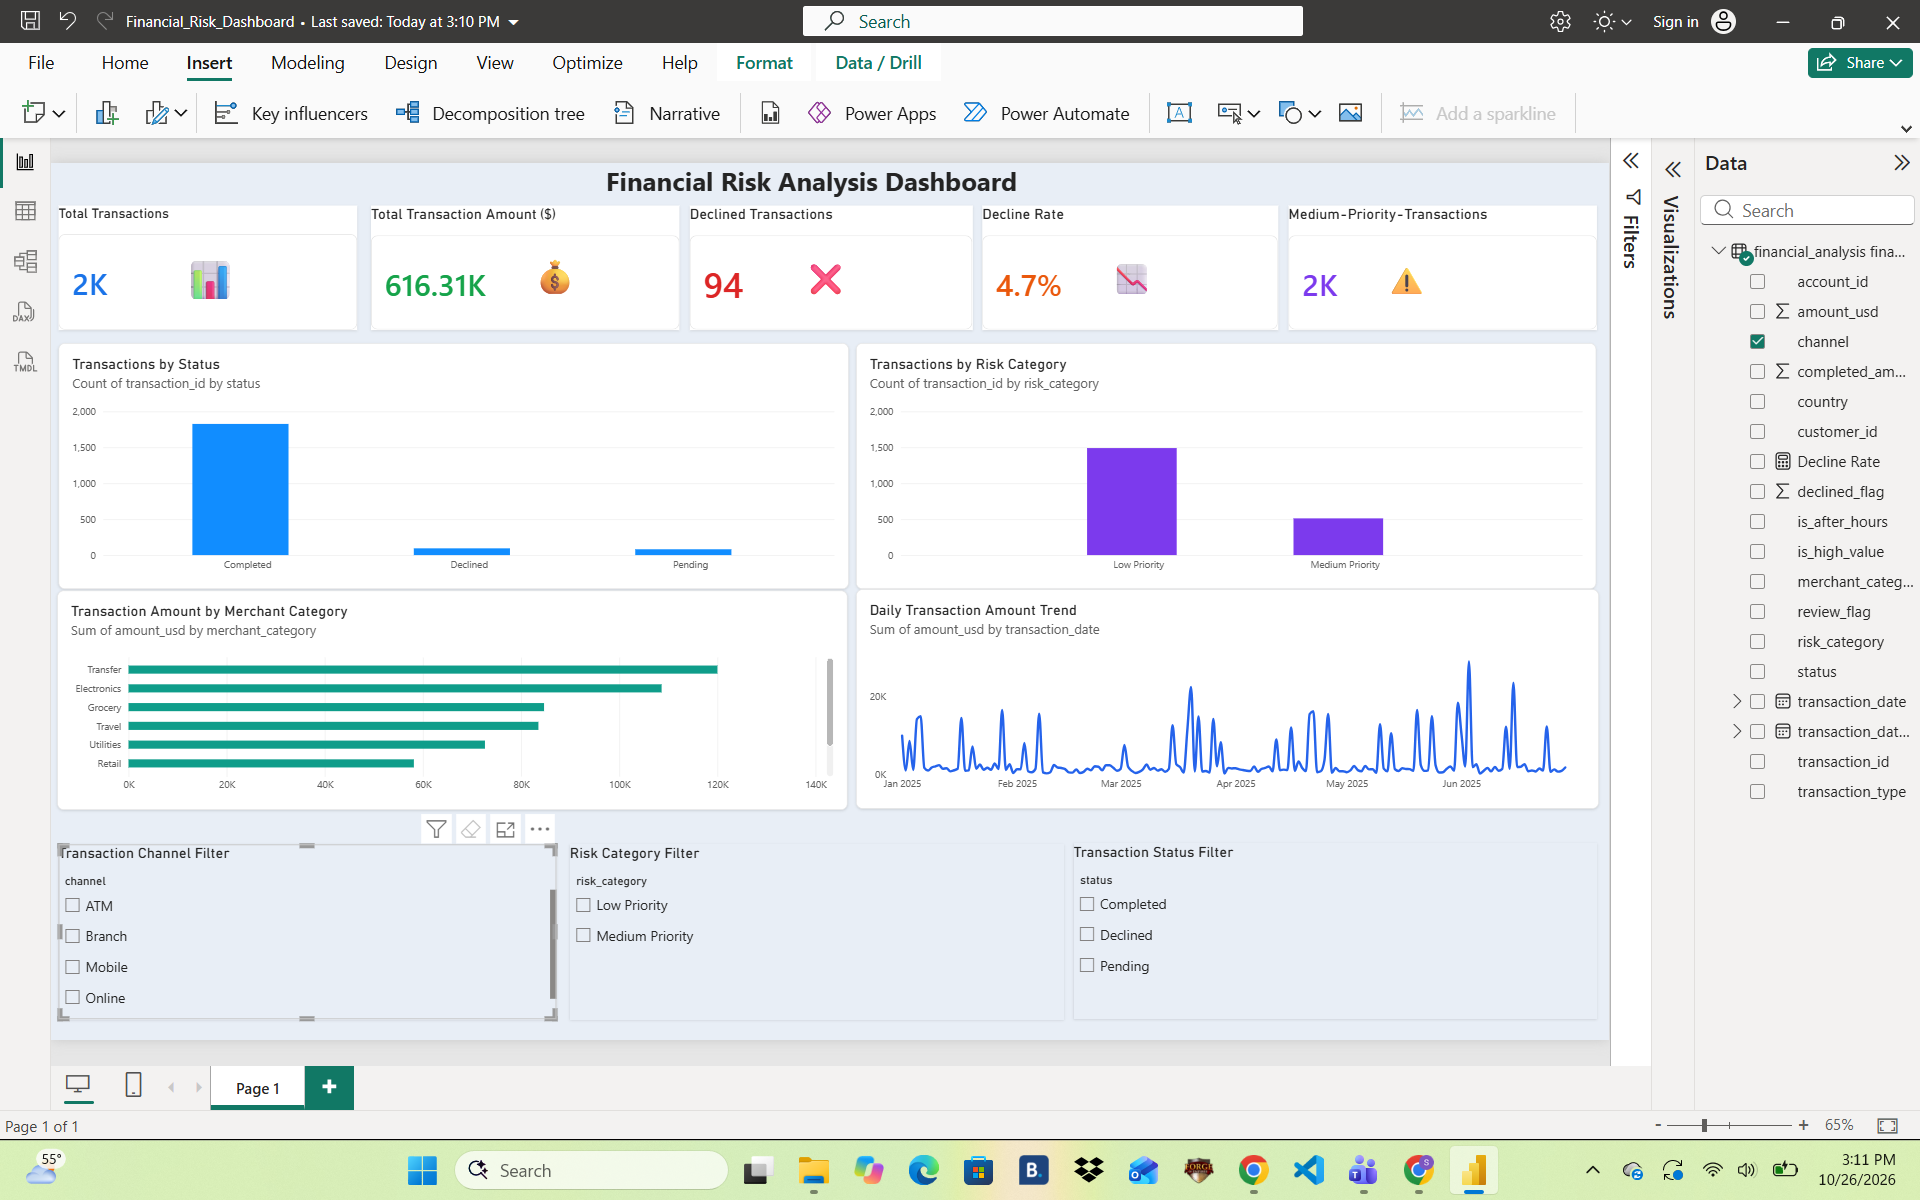

The dashboard page shown, as its layout file describes it:
{"tool":"powerbi","page":{"name":"Page 1","canvas":[1920,1080],"ordinal":0},"visuals":[{"type":"cardVisual","title":"Total Transactions","fields":{"Data":["CountNonNull(financial_analysis financial_risk_dashboard.transaction_id)"]},"box":[8.7,52.3,368,153.5],"z":0},{"type":"cardVisual","title":"Total Transaction Amount ($)","fields":{"Data":["Sum(financial_analysis financial_risk_dashboard.amount_usd)"]},"box":[394.2,52.3,380.2,153.5],"z":1000},{"type":"cardVisual","title":"Declined Transactions","fields":{"Data":["Sum(financial_analysis financial_risk_dashboard.declined_flag)"]},"box":[786.6,52.3,348.8,153.5],"z":2000},{"type":"cardVisual","title":"Decline Rate","fields":{"Data":["financial_analysis financial_risk_dashboard.Decline Rate"]},"box":[1147.7,52.3,364.5,153.5],"z":3000},{"type":"cardVisual","title":"Medium-Priority-Transactions","fields":{"Data":["CountNonNull(financial_analysis financial_risk_dashboard.transaction_id)"]},"box":[1524.4,52.3,380.2,153.5],"z":4000},{"type":"clusteredColumnChart","title":"Transactions by Status","fields":{"Category":["financial_analysis financial_risk_dashboard.status"],"Y":["CountNonNull(financial_analysis financial_risk_dashboard.transaction_id)"]},"box":[8.7,221.5,973.3,303.5],"z":5000},{"type":"clusteredColumnChart","title":"Transactions by Risk Category","fields":{"Category":["financial_analysis financial_risk_dashboard.risk_category"],"Y":["CountNonNull(financial_analysis financial_risk_dashboard.transaction_id)"]},"box":[992.4,221.5,912.2,303.5],"z":6000},{"type":"clusteredBarChart","title":"Transaction Amount by Merchant Category","fields":{"Category":["financial_analysis financial_risk_dashboard.merchant_category"],"Y":["Sum(financial_analysis financial_risk_dashboard.amount_usd)"]},"box":[8.3,526.7,973.3,270],"z":7000},{"type":"lineChart","title":"Daily Transaction Amount Trend","fields":{"Category":["financial_analysis financial_risk_dashboard.transaction_date"],"Y":["Sum(financial_analysis financial_risk_dashboard.amount_usd)"]},"box":[992.4,525,915,270],"z":8000},{"type":"slicer","title":"Risk Category Filter","fields":{"Values":["financial_analysis financial_risk_dashboard.risk_category"]},"box":[638.4,839,608.7,216.3],"z":9000},{"type":"slicer","title":"Transaction Status Filter","fields":{"Values":["financial_analysis financial_risk_dashboard.status"]},"box":[1260,838.3,645,216.7],"z":10000},{"type":"slicer","title":"Transaction Channel Filter","fields":{"Values":["financial_analysis financial_risk_dashboard.channel"]},"box":[8.7,839,614,216.3],"z":11000},{"type":"textbox","box":[683.7,0,514.5,80.2],"z":12000},{"type":"textbox","box":[151.7,109.9,57.6,76.7],"z":12002},{"type":"textbox","box":[164,109.9,151.7,95.9],"z":12003},{"type":"textbox","box":[99.4,80.2,294.8,319.2],"z":12004},{"type":"textbox","box":[451.7,99.4,279.1,71.5],"z":12005},{"type":"textbox","box":[591.3,109.9,73.3,61],"z":12006},{"type":"textbox","box":[100,100,300,300],"z":12007},{"type":"textbox","box":[927.9,116.9,54.1,61],"z":12008},{"type":"textbox","box":[100,100,300,300],"z":12009},{"type":"textbox","box":[100,100,300,300],"z":12010},{"type":"textbox","box":[1306.4,116.9,48.8,57.6],"z":12011},{"type":"textbox","box":[1644.8,116.9,69.8,57.6],"z":12012}]}

Visuals, with their boxes on the page's 1920x1080 design canvas (x1, y1, x2, y2). These are canvas units, not pixel positions in the 1920x1200 screenshot, which may show the page scaled, cropped or inside an application window:
"Total Transactions" cardVisual: x1=9, y1=52, x2=377, y2=206
"Total Transaction Amount ($)" cardVisual: x1=394, y1=52, x2=774, y2=206
"Declined Transactions" cardVisual: x1=787, y1=52, x2=1135, y2=206
"Decline Rate" cardVisual: x1=1148, y1=52, x2=1512, y2=206
"Medium-Priority-Transactions" cardVisual: x1=1524, y1=52, x2=1905, y2=206
"Transactions by Status" clusteredColumnChart: x1=9, y1=222, x2=982, y2=525
"Transactions by Risk Category" clusteredColumnChart: x1=992, y1=222, x2=1905, y2=525
"Transaction Amount by Merchant Category" clusteredBarChart: x1=8, y1=527, x2=982, y2=797
"Daily Transaction Amount Trend" lineChart: x1=992, y1=525, x2=1907, y2=795
"Risk Category Filter" slicer: x1=638, y1=839, x2=1247, y2=1055
"Transaction Status Filter" slicer: x1=1260, y1=838, x2=1905, y2=1055
"Transaction Channel Filter" slicer: x1=9, y1=839, x2=623, y2=1055
textbox: x1=684, y1=0, x2=1198, y2=80
textbox: x1=152, y1=110, x2=209, y2=187
textbox: x1=164, y1=110, x2=316, y2=206
textbox: x1=99, y1=80, x2=394, y2=399
textbox: x1=452, y1=99, x2=731, y2=171
textbox: x1=591, y1=110, x2=665, y2=171
textbox: x1=100, y1=100, x2=400, y2=400
textbox: x1=928, y1=117, x2=982, y2=178
textbox: x1=100, y1=100, x2=400, y2=400
textbox: x1=100, y1=100, x2=400, y2=400
textbox: x1=1306, y1=117, x2=1355, y2=174
textbox: x1=1645, y1=117, x2=1715, y2=174
